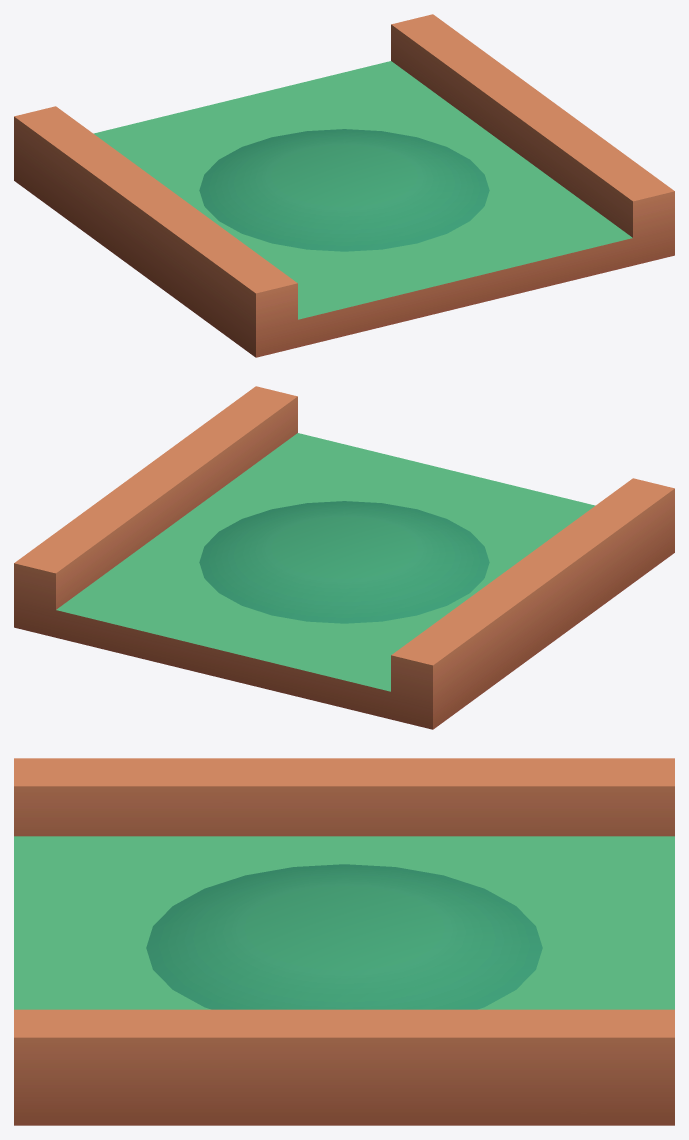
The model's file is bump-walls.glb.
The picture shows the model from 3 angles, top to bottom: view 1: azimuth 30°, elevation 25°; view 2: azimuth 150°, elevation 25°; view 3: azimuth 270°, elevation 25°; orthographic projection. The views are drawn at different scales.
Visible parts, largest first — view 1: bump-walls; view 2: bump-walls; view 3: bump-walls.
Boxes of the visible parts, left/top/right/bottom form: bump-walls: left=14, top=14, right=674, bottom=357; bump-walls: left=14, top=386, right=674, bottom=729; bump-walls: left=14, top=758, right=674, bottom=1125.
Size of the model in its own units: 0.9999 by 0.1466 by 0.9999.
Materials: 1 (1 with a texture image).
